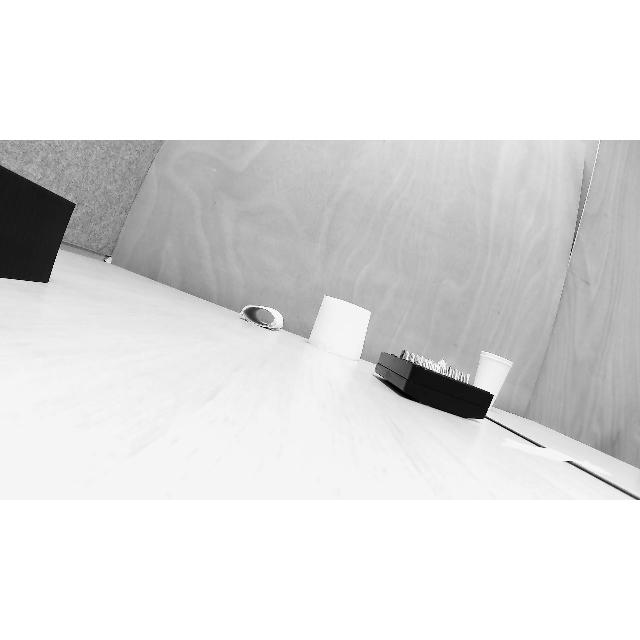targets: (0, 159, 80, 282), (376, 350, 490, 418), (313, 294, 372, 360), (471, 346, 517, 412), (242, 300, 288, 330)
